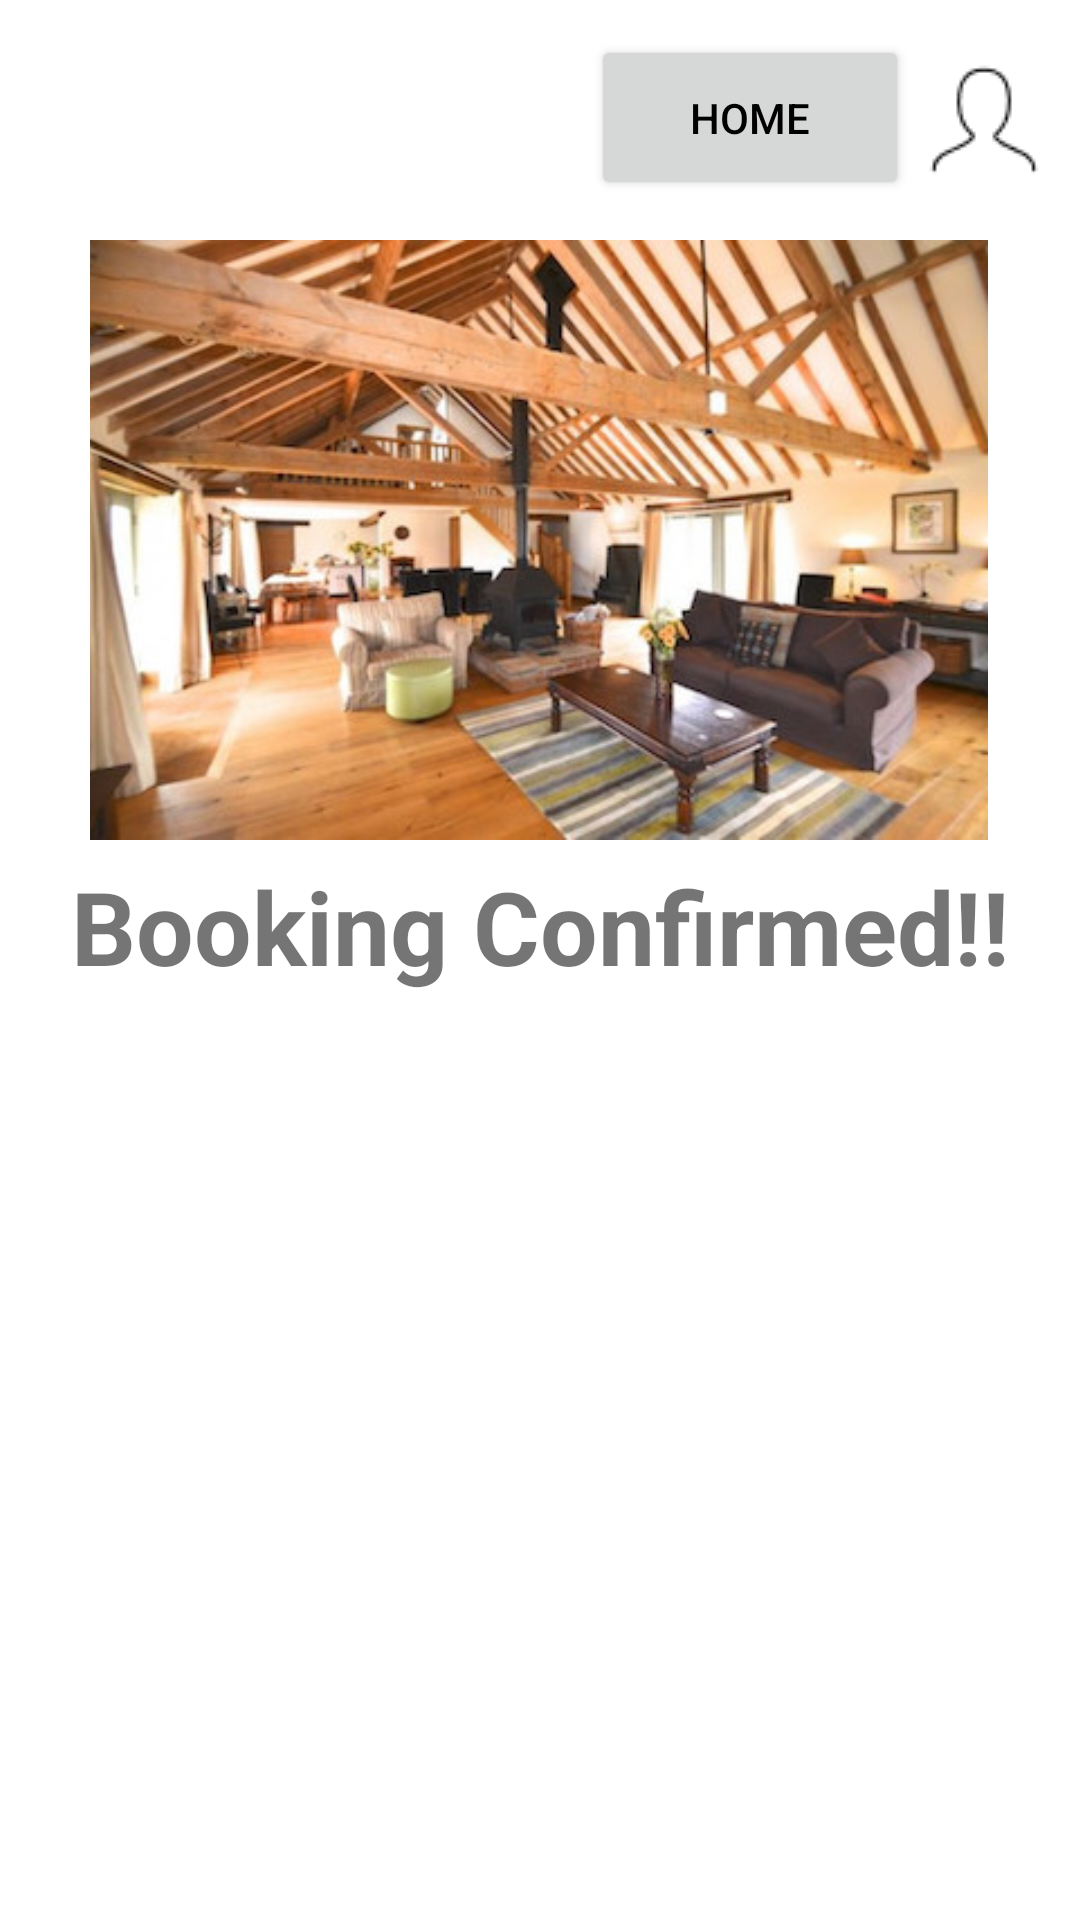

Icons on this 1080 × 1920 Android screen, each with its box as (x1, y1, x2, y2):
usericon: (931, 67, 1037, 172)
